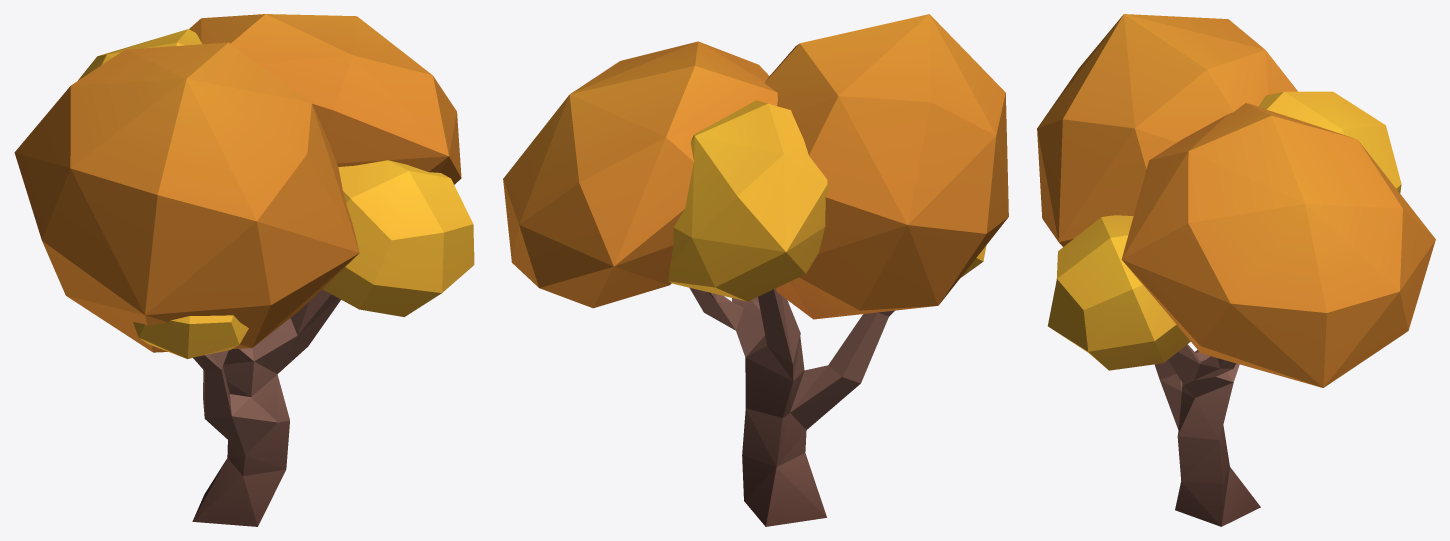
The model's file is AutumnTree1.fbx.
The picture shows the model from 3 angles, left to right: view 1: azimuth 30°, elevation 25°; view 2: azimuth 150°, elevation 25°; view 3: azimuth 270°, elevation 25°; orthographic projection. The views are drawn at different scales.
Parts seen in each view (by area): view 1: AutumnTree1; view 2: AutumnTree1; view 3: AutumnTree1.
Part boxes in pixels (x1,y1,x2,y2): AutumnTree1: [14, 14, 474, 526]; AutumnTree1: [503, 14, 1008, 526]; AutumnTree1: [1037, 14, 1435, 526].
Bounding box in the file's own units: 484 × 530 × 424.
